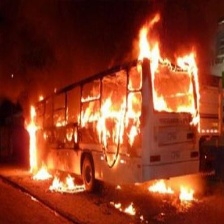fire: (136, 14, 207, 125), (20, 105, 77, 191), (77, 87, 143, 149), (147, 177, 199, 203), (107, 197, 146, 223)
